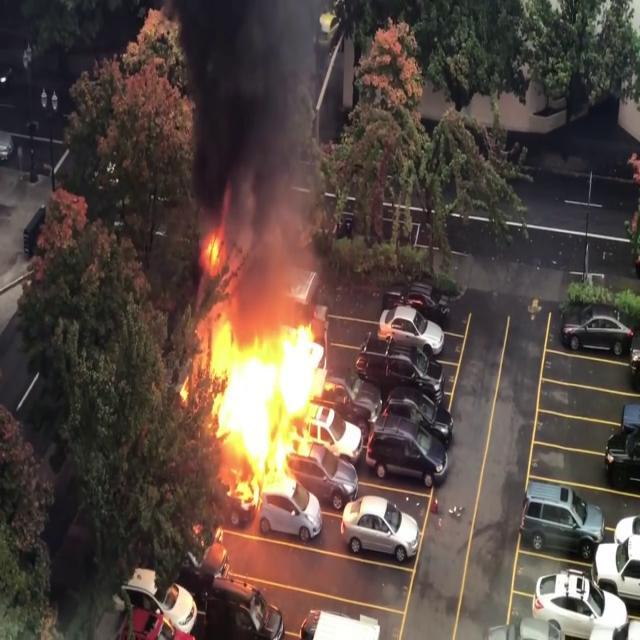Fire: (182, 235, 342, 499)
Smoke: (171, 1, 332, 302)
